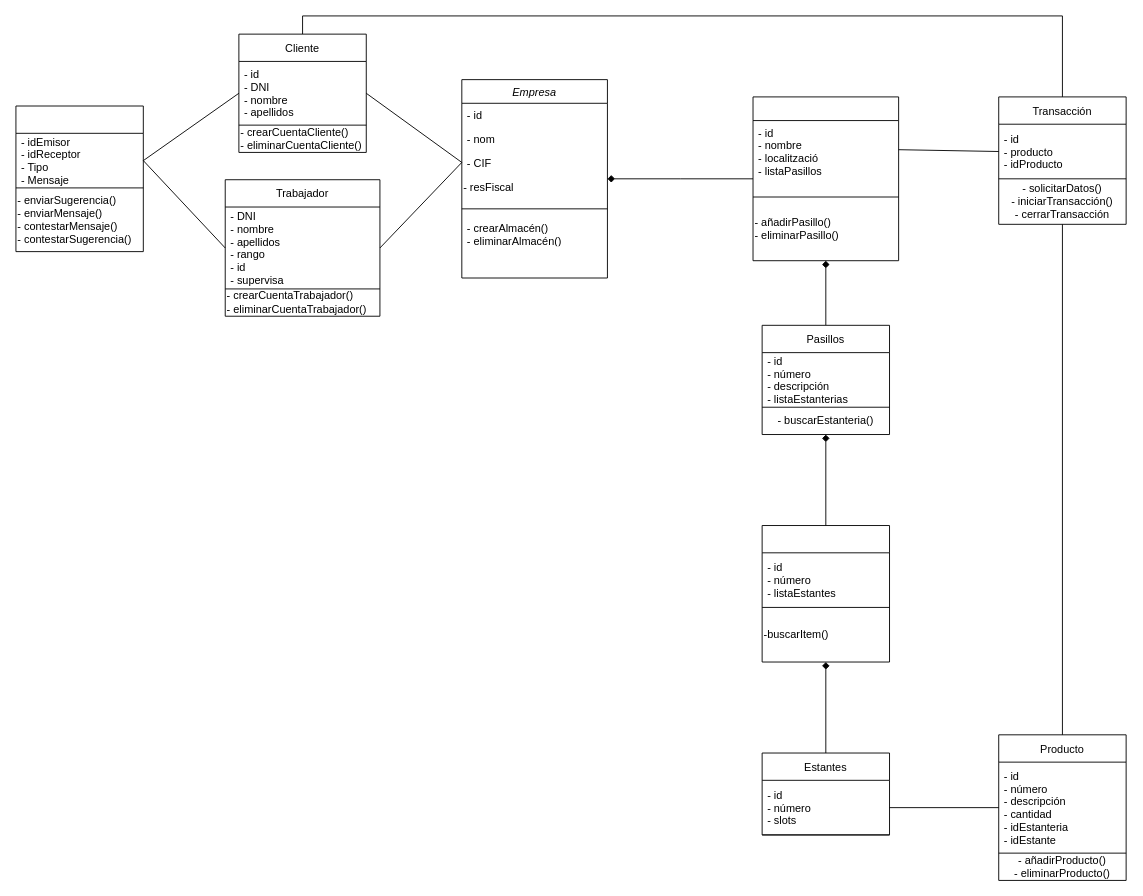
Some shapes in this 1143 by 896 pixel diagram are drawn without their labels. The box of each missing label's shape, as (x1, y1, x2, y2) in pixels:
Almacén: (752, 96, 899, 261)
Comunicación: (15, 105, 143, 252)
Estanterias: (761, 525, 890, 662)
